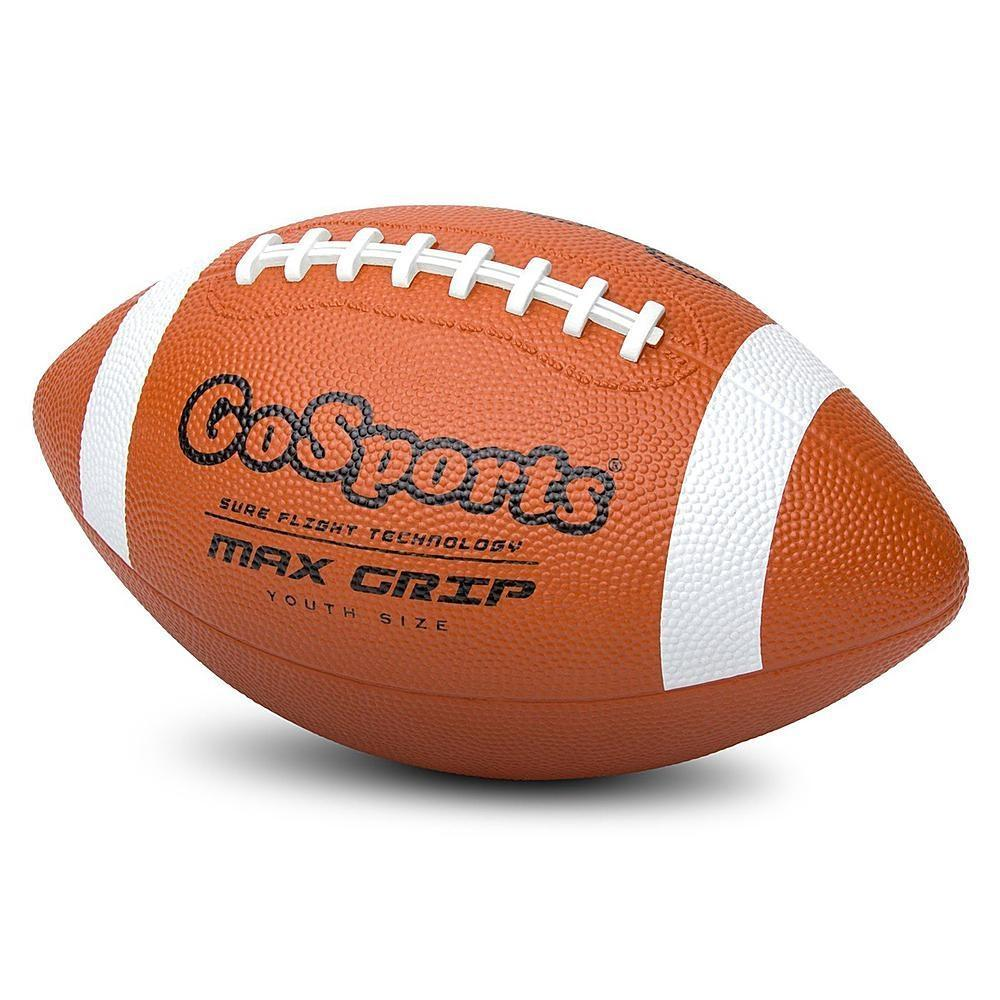Sports-Ball: (35, 207, 967, 779)
